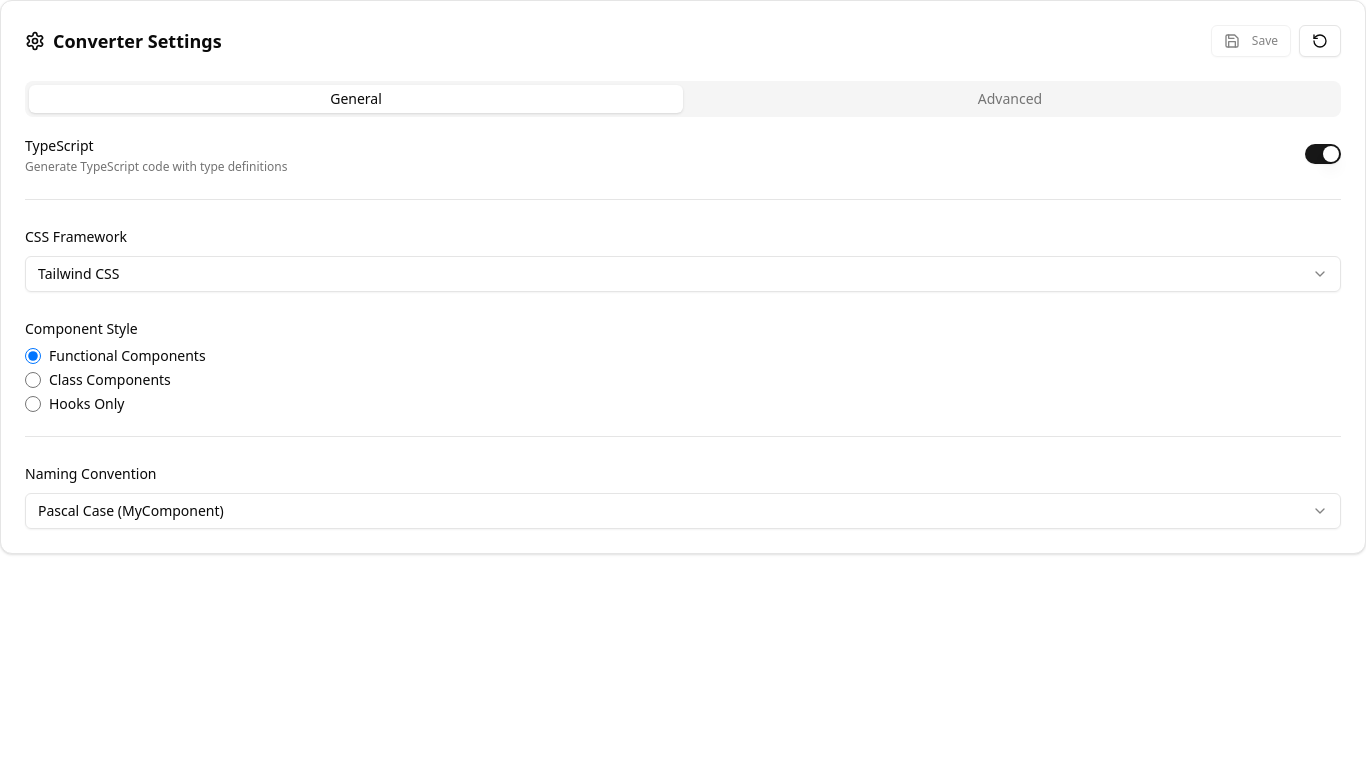
Test case: SettingsPanel Component › Unsaved Changes Indicator › should disappear after saving
Click the switch named "typescript" at (1323,154), box [1305,144,1341,164]
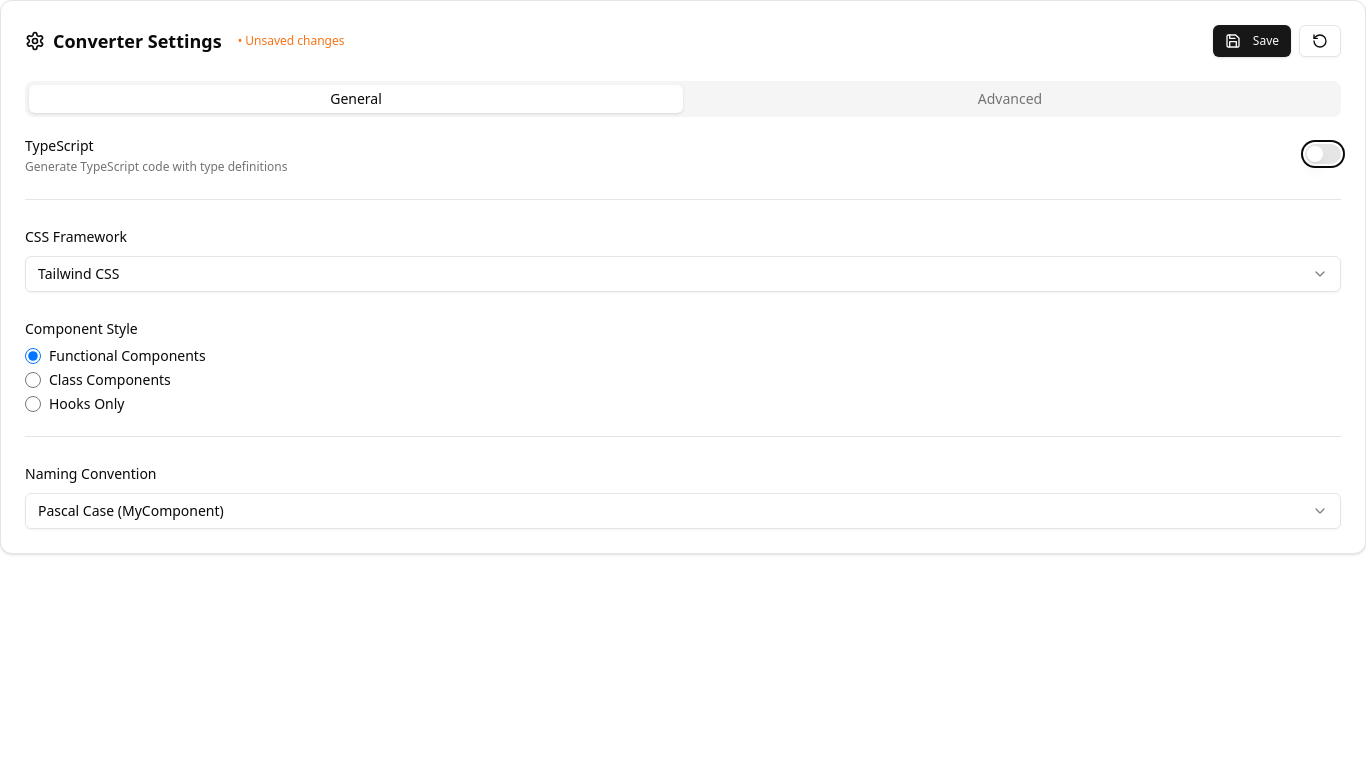
Now the text "• Unsaved changes" is shown, box [238,33,344,49]
Click the button "Save" at (1252,41), box [1213,25,1291,57]
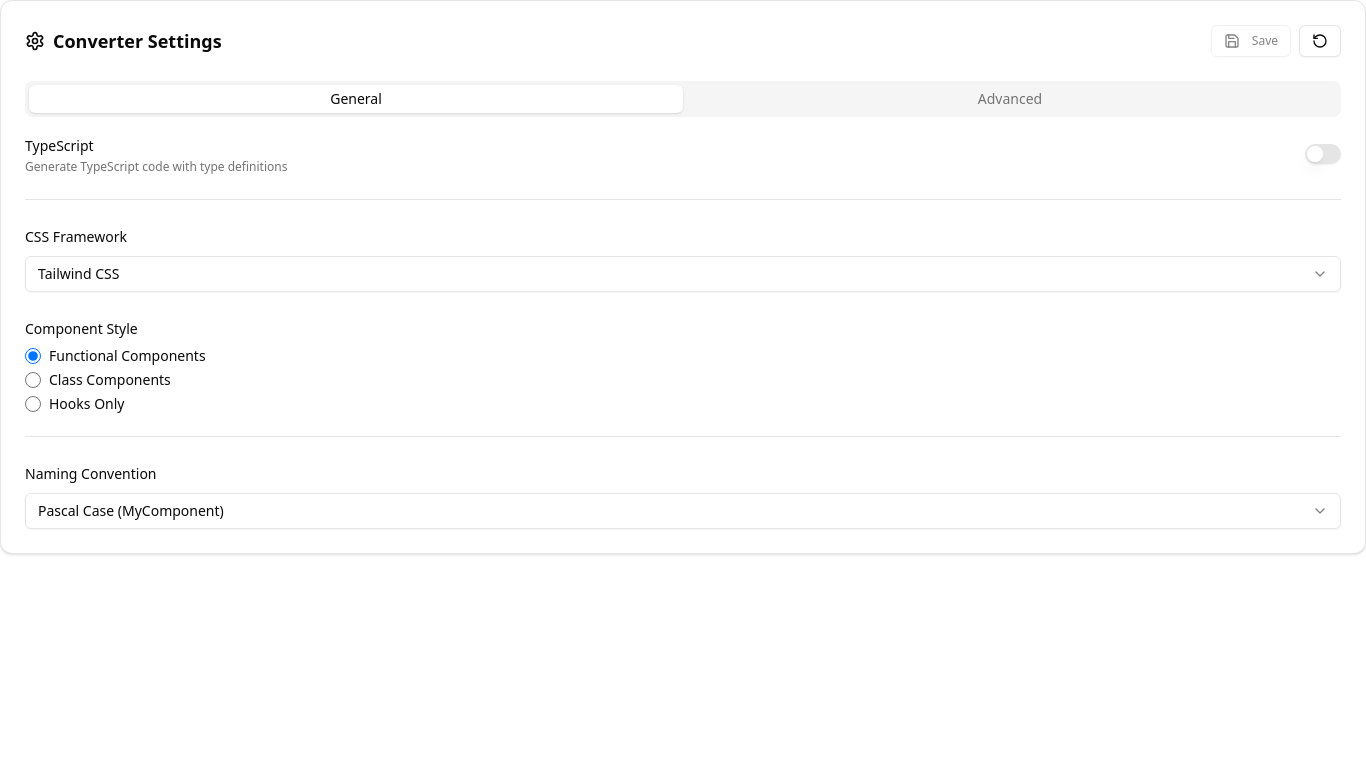
Now the text "Unsaved changes" is gone
